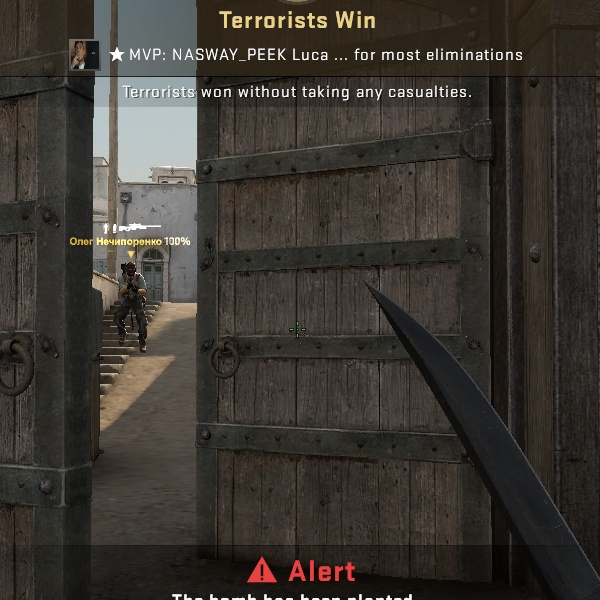t_body: (115, 262, 149, 350)
t_head: (126, 262, 136, 279)
